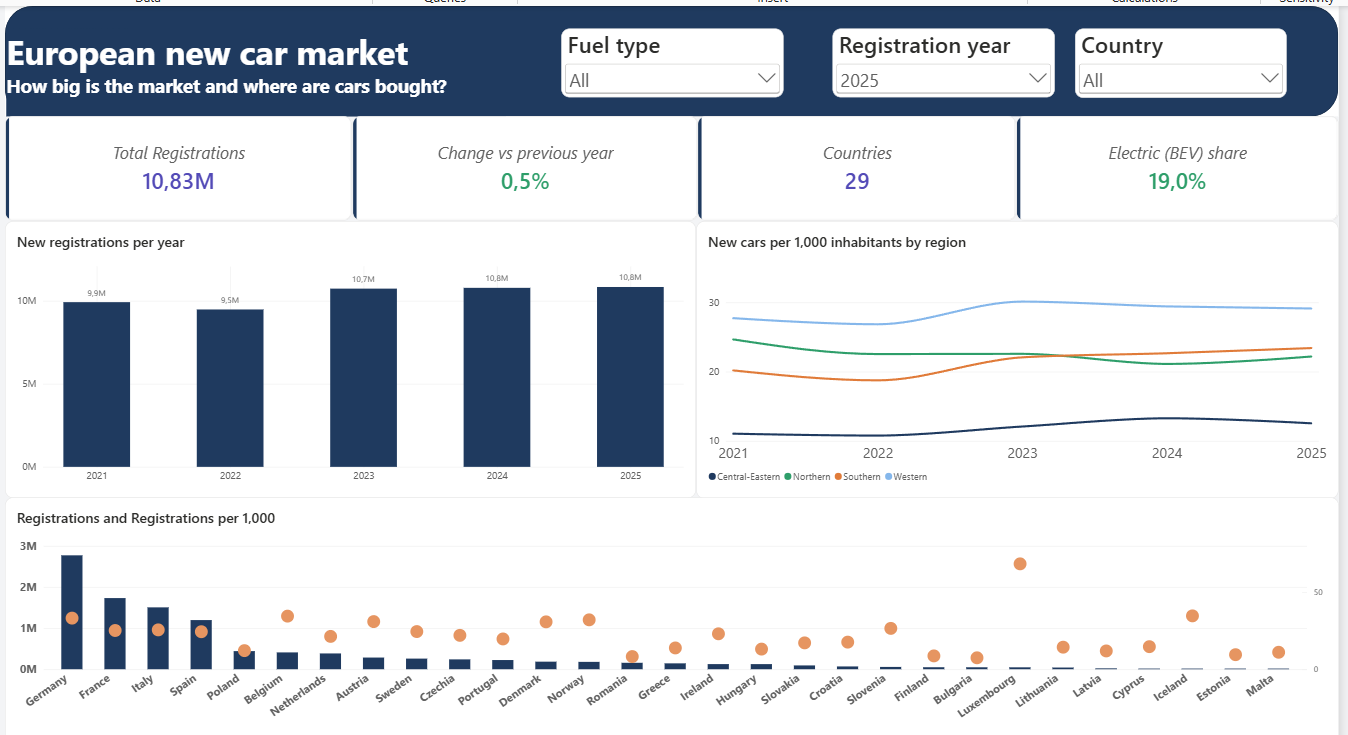

The dashboard page shown, as its layout file describes it:
{"tool":"powerbi","page":{"name":"Market Overview","canvas":[1920,1080],"ordinal":0},"visuals":[{"type":"shape","box":[15.1,0,1904.4,158],"z":0},{"type":"textbox","box":[16.2,32.4,713.7,125.8],"z":1000},{"type":"slicer","fields":{"Values":["fact_registrations.registration_year"]},"box":[1196.6,32.3,317.7,98.8],"z":2000},{"type":"slicer","title":"Country","fields":{"Values":["dim_country.country_name"]},"box":[1543,32.3,302.6,99.3],"z":3000},{"type":"cardVisual","fields":{"Data":["fact_registrations.Total Registrations"]},"box":[15.1,158,495.6,149.3],"z":4000},{"type":"cardVisual","fields":{"Data":["fact_registrations.YoY %"]},"box":[509.9,157.5,493.9,149.5],"z":5000},{"type":"cardVisual","fields":{"Data":["fact_registrations.Countries"]},"box":[1003.8,157.5,455,149.5],"z":6000},{"type":"cardVisual","fields":{"Data":["fact_registrations.BEV Share"]},"box":[1458.6,158,461,149.3],"z":7000},{"type":"clusteredColumnChart","title":"New registrations per year","fields":{"Category":["fact_registrations.registration_year"],"Y":["fact_registrations.Total Registrations"]},"box":[15.1,307.3,986.8,396],"z":8000},{"type":"lineChart","title":"New cars per 1,000 inhabitants by region","fields":{"Category":["fact_registrations.registration_year"],"Series":["dim_country.region"],"Y":["fact_registrations.Registrations per 1,000"]},"box":[1001.8,307.1,917.9,396.4],"z":9000},{"type":"lineClusteredColumnComboChart","title":"Registrations and Registrations per 1,000 ","fields":{"Category":["dim_country.country_name"],"Y":["fact_registrations.Total Registrations"],"Y2":["fact_registrations.Registrations per 1,000"]},"box":[13.9,702.2,1905.7,378.8],"z":10000},{"type":"slicer","fields":{"Values":["dim_fuel.fuel_group"]},"box":[808.5,32.3,317.7,98.8],"z":11000}]}

Visuals, with their boxes on the page's 1920x1080 design canvas (x1, y1, x2, y2). These are canvas units, not pixel positions in the 1348x735 screenshot, which may show the page scaled, cropped or inside an application window:
shape: box(15, 0, 1920, 158)
textbox: box(16, 32, 730, 158)
slicer - fact_registrations.registration_year: box(1197, 32, 1514, 131)
"Country" slicer: box(1543, 32, 1846, 132)
cardVisual - fact_registrations.Total Registrations: box(15, 158, 511, 307)
cardVisual - fact_registrations.YoY %: box(510, 158, 1004, 307)
cardVisual - fact_registrations.Countries: box(1004, 158, 1459, 307)
cardVisual - fact_registrations.BEV Share: box(1459, 158, 1920, 307)
"New registrations per year" clusteredColumnChart: box(15, 307, 1002, 703)
"New cars per 1,000 inhabitants by region" lineChart: box(1002, 307, 1920, 704)
"Registrations and Registrations per 1,000 " lineClusteredColumnComboChart: box(14, 702, 1920, 1081)
slicer - dim_fuel.fuel_group: box(808, 32, 1126, 131)
